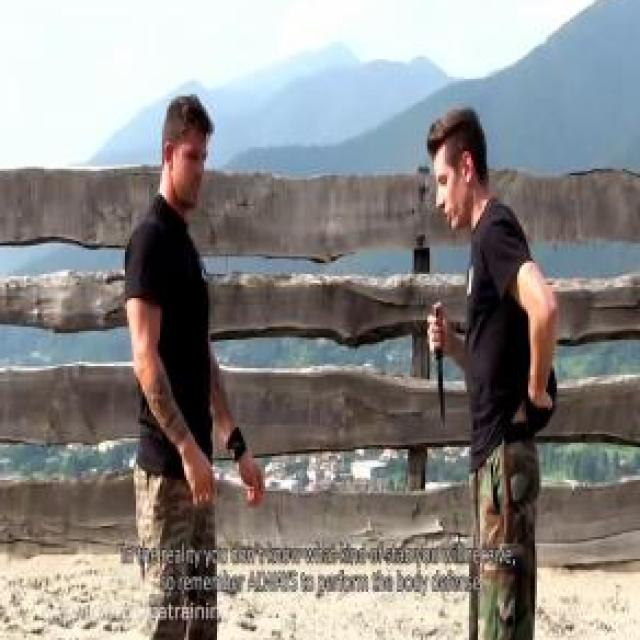knife: (421, 298, 448, 430)
